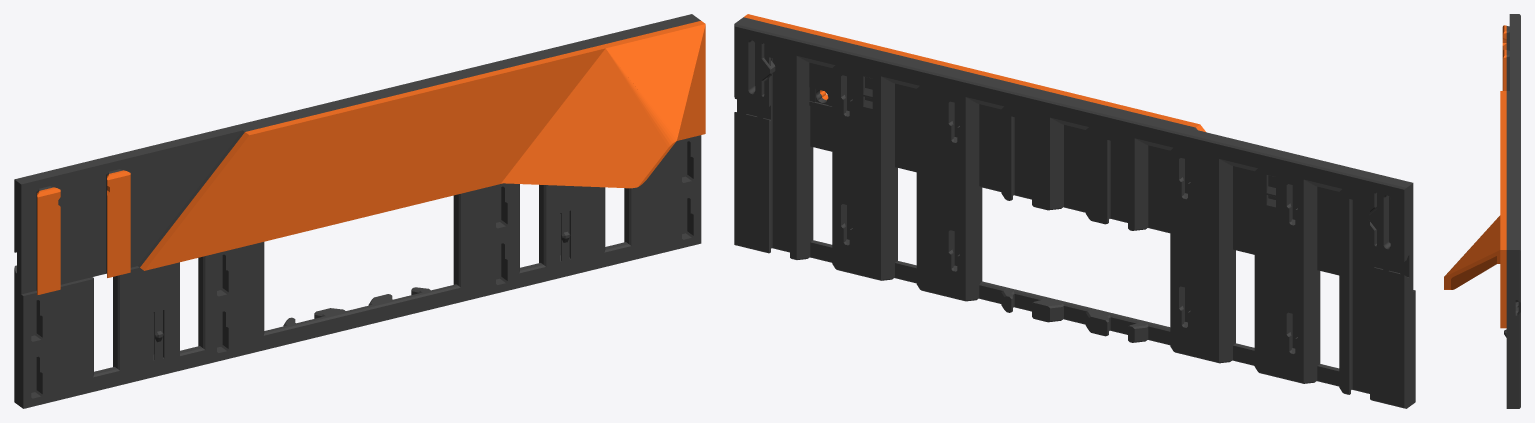
Rendered from Faceplate_EdgeLabel_2W-1H.lib.glb.
3 views of the same model, side by side, from view 1: azimuth 30°, elevation 25°; view 2: azimuth 150°, elevation 25°; view 3: azimuth 270°, elevation 25° (orthographic). The views are drawn at different scales.
Parts seen in each view (by area): view 1: Faceplate_EdgeLabel_2W-1H; view 2: Faceplate_EdgeLabel_2W-1H; view 3: Faceplate_EdgeLabel_2W-1H.
Part boxes in pixels (<box>): Faceplate_EdgeLabel_2W-1H: <box>14,14,705,408</box>; Faceplate_EdgeLabel_2W-1H: <box>734,14,1415,408</box>; Faceplate_EdgeLabel_2W-1H: <box>1444,14,1520,408</box>.
Bounding box in the file's own units: 175 × 54.99 × 24.1.
